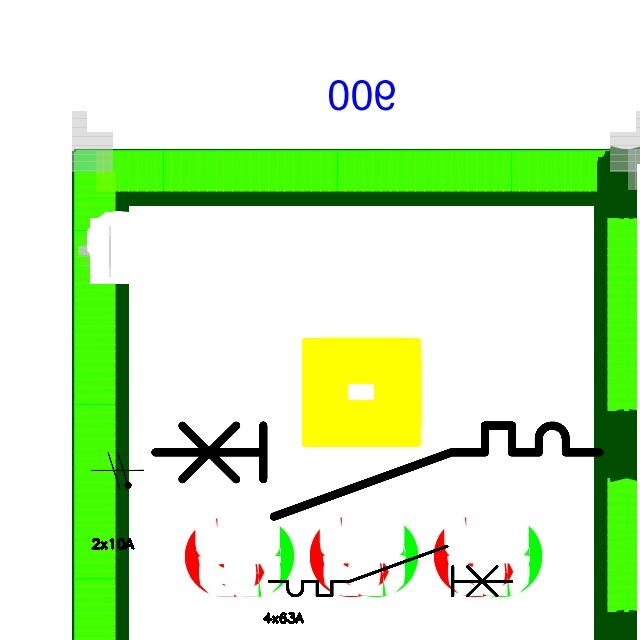interruptor_termomagnetico: (143, 414, 610, 528), (263, 540, 518, 602)
